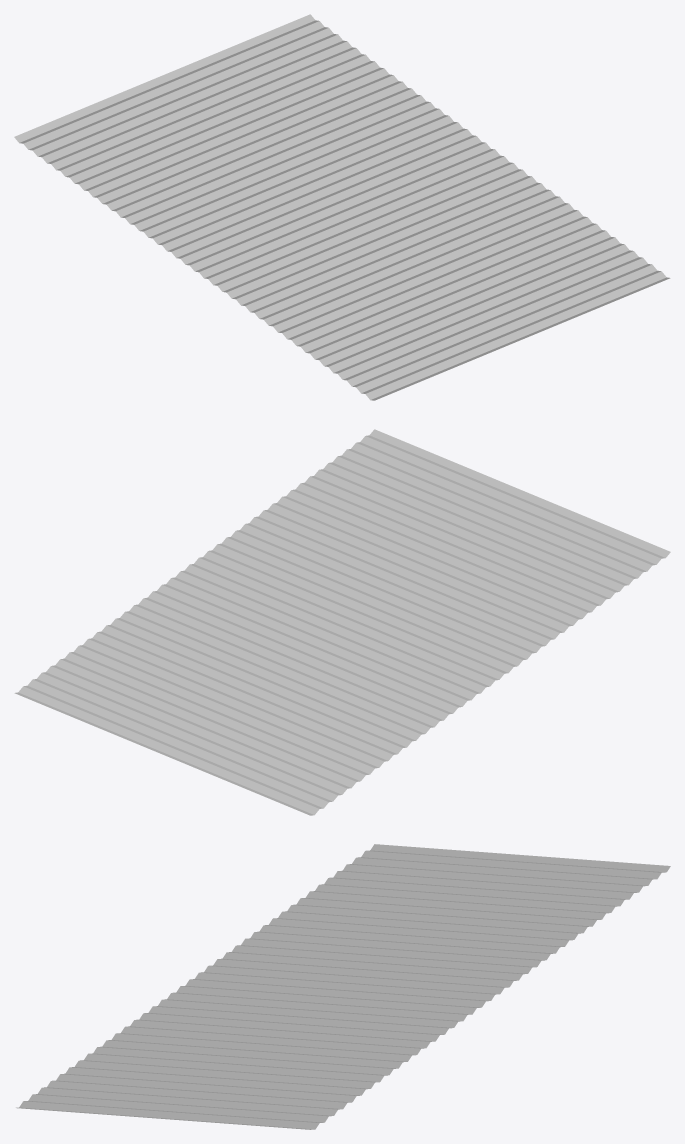
Rendered from Me_Corigated_roof.fbx.
3 renders of one model, top to bottom at view 1: azimuth 30°, elevation 25°; view 2: azimuth 150°, elevation 25°; view 3: azimuth 330°, elevation 25°, orthographic.
Parts seen in each view (by area): view 1: corrigated roof; view 2: corrigated roof; view 3: corrigated roof.
Part boxes in pixels (bbox=[...]): corrigated roof: bbox=[14, 14, 670, 400]; corrigated roof: bbox=[14, 429, 670, 815]; corrigated roof: bbox=[16, 844, 670, 1129].
Size of the model in its own units: 198 by 33.91 by 416.
